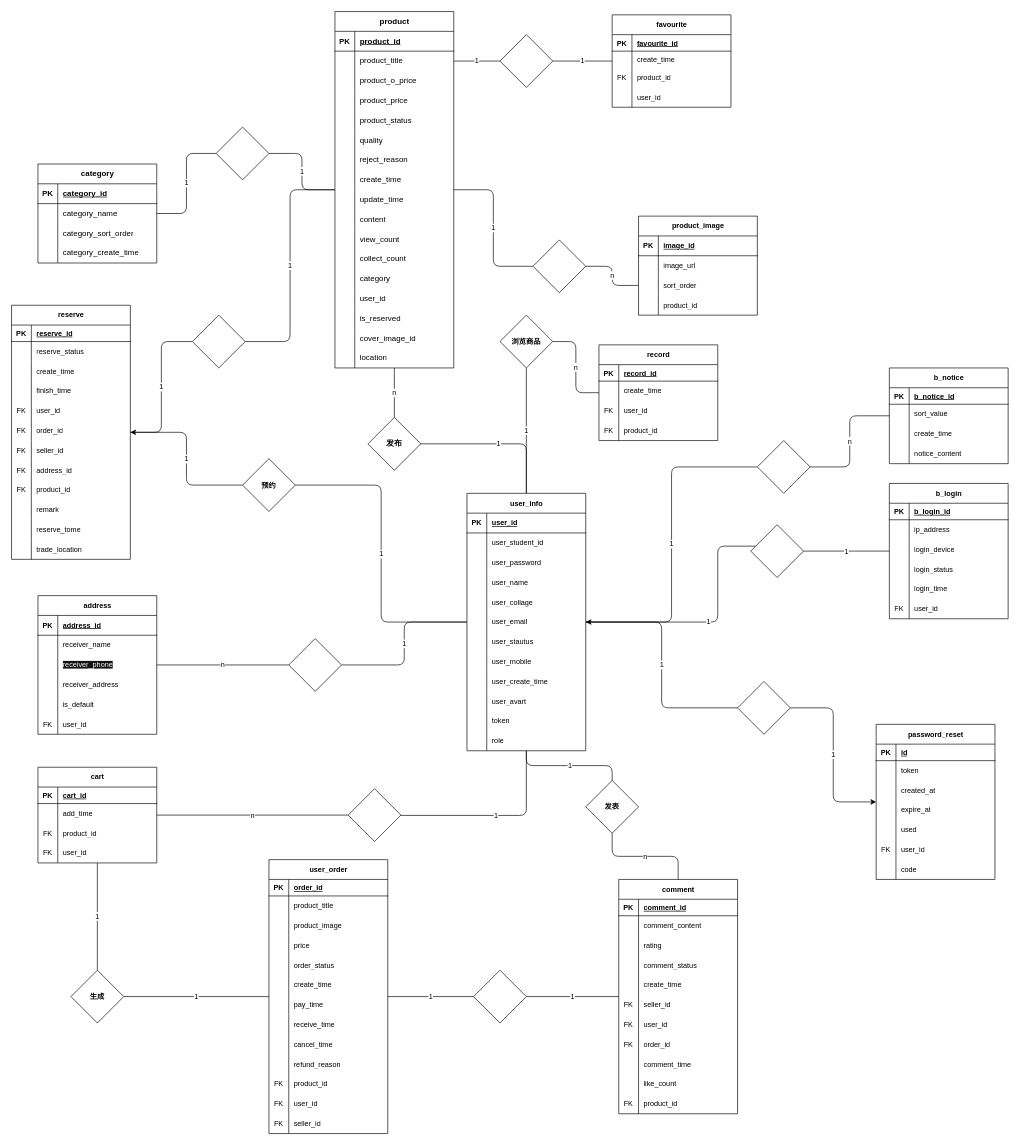
Image size: 1020x1145. Some labels were removed from this diagram. The shapes that lost their labels are listed below. From the top down, each one's centre as x and y in pixels, then its label:
[526,60]: 收藏
[242,153]: 分类
[559,266]: 包含
[218,341]: 指定
[783,466]: 接收
[777,551]: 记录
[315,664]: 填写
[763,707]: 修改
[374,815]: 选择商品
[499,996]: 评价
